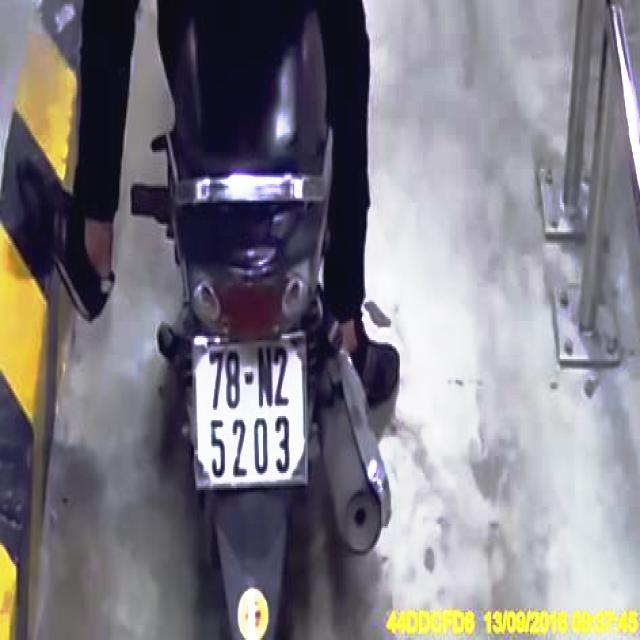license_plate: (193, 337, 311, 488)
